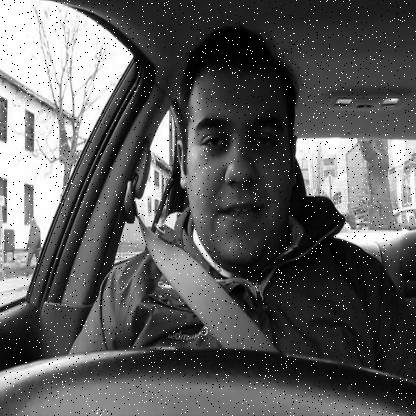seatbelt: (117, 24, 308, 378)
